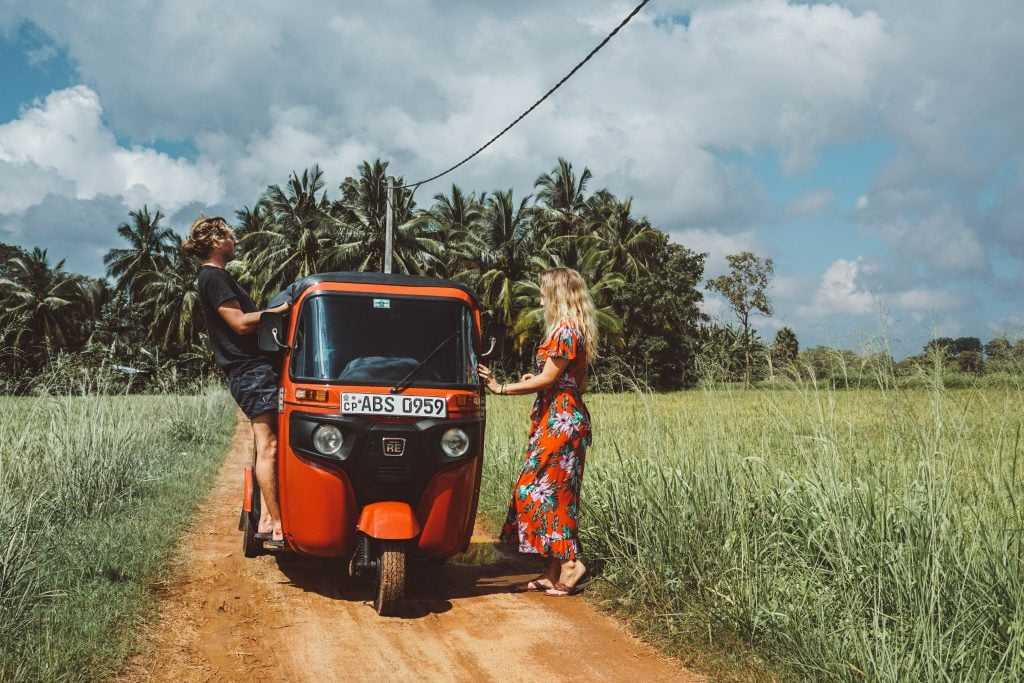tuk tuk: (244, 273, 492, 618)
